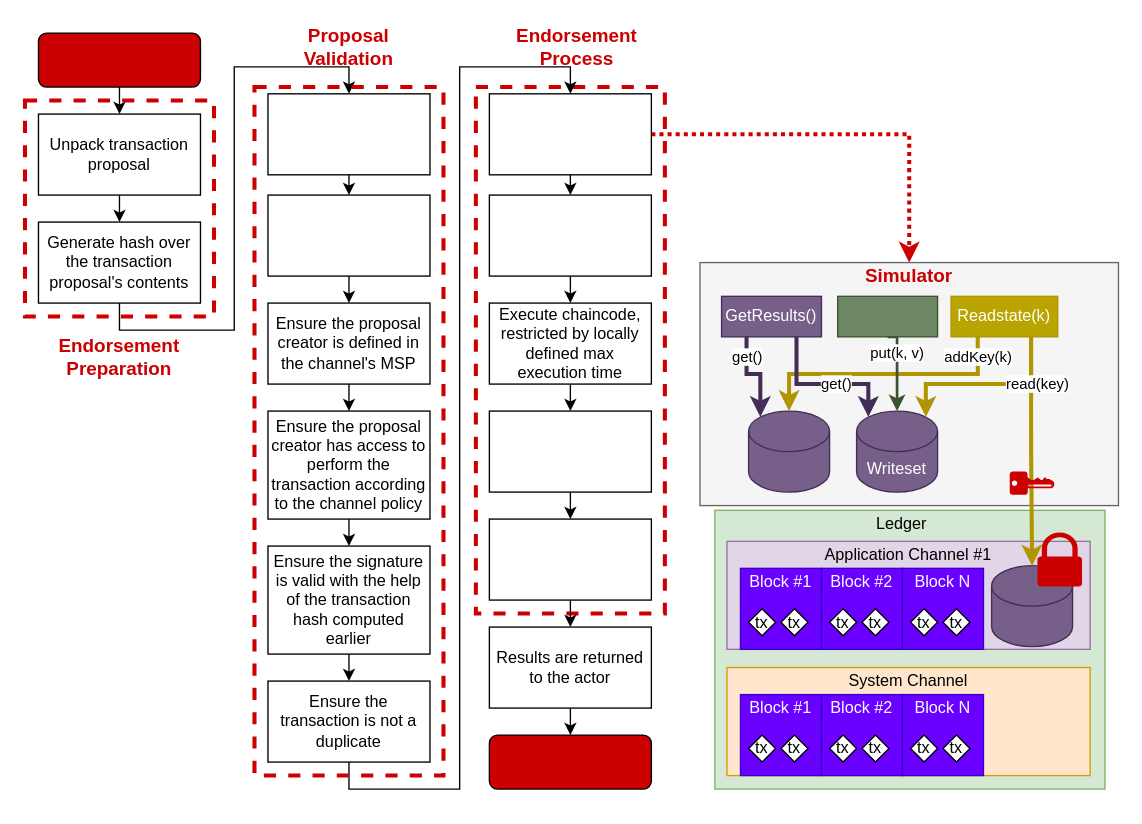
This 1142x824 diagram has some shape labels left out. The shapes that lost their labels are listed below. From the top down, each one's centre as x and y in pixels, then its label:
the point at 118,59: Endorsing a Transaction Proposal
the point at 348,133: Ensure all required fields are non-empty
the point at 569,133: Create transaction Simulator
the point at 348,235: Ensure the proposal creator is defined in its digital identity
the point at 569,235: Create lock on the entire ledger
the point at 887,316: Putstate(k, v)
the point at 569,451: Marshal results
the point at 788,451: Readset
the point at 569,559: Release lock
the point at 1031,605: State DB
the point at 569,761: End
